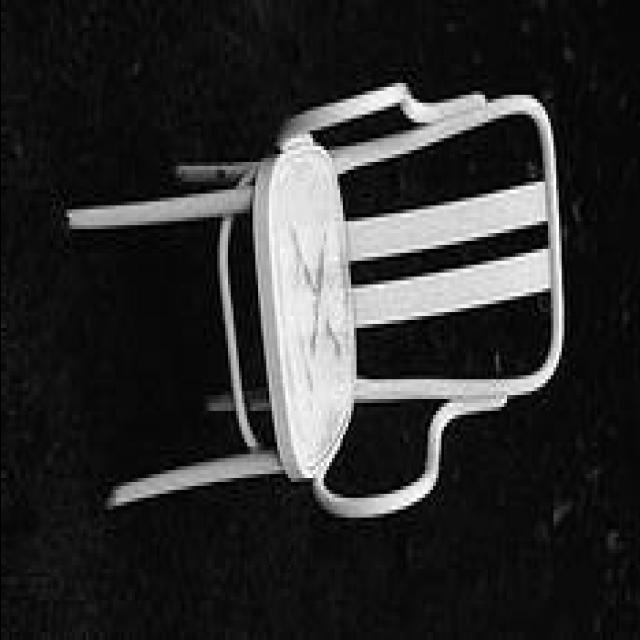chair: (70, 72, 562, 516)
